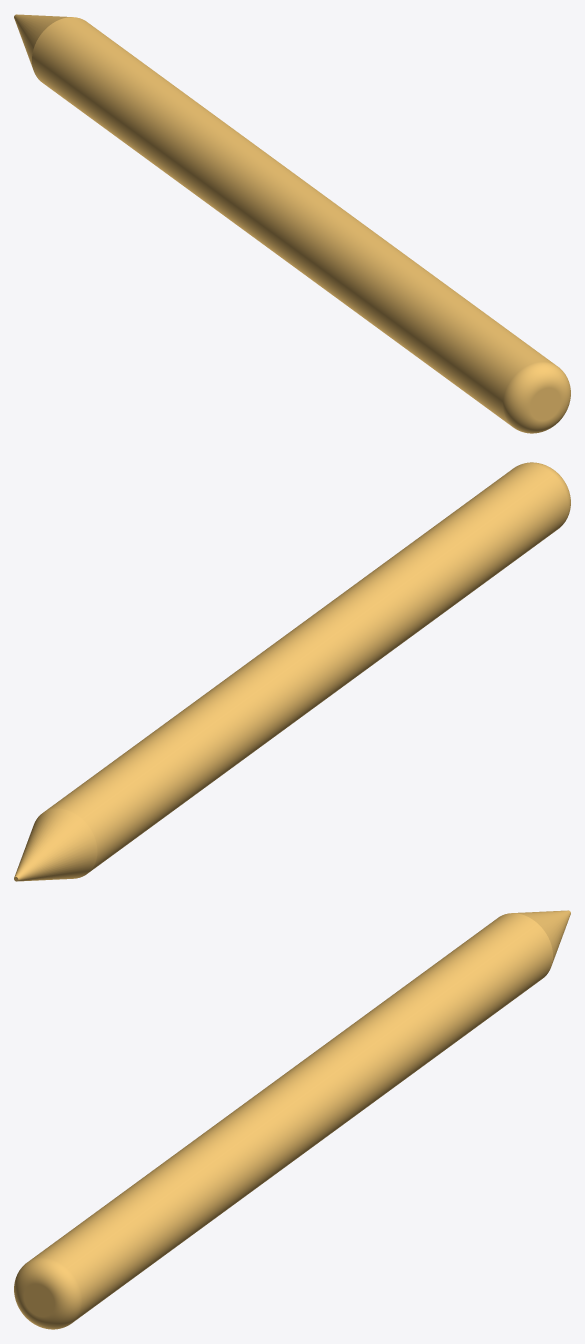
3 renders of one model, top to bottom at view 1: azimuth 30°, elevation 25°; view 2: azimuth 150°, elevation 25°; view 3: azimuth 330°, elevation 25°, orthographic.
Parts seen in each view (by area): view 1: mesh3054, mesh3053, mesh3055, mesh3052; view 2: mesh3054, mesh3055; view 3: mesh3054, mesh3053, mesh3055, mesh3052.
Boxes of the visible parts, x1=… form: mesh3054: x1=32, y1=17, x2=554, y2=425; mesh3053: x1=502, y1=362, x2=570, y2=433; mesh3055: x1=14, y1=14, x2=71, y2=68; mesh3052: x1=530, y1=388, x2=560, y2=420; mesh3054: x1=45, y1=464, x2=568, y2=872; mesh3055: x1=14, y1=808, x2=97, y2=881; mesh3054: x1=30, y1=913, x2=552, y2=1321; mesh3053: x1=14, y1=1258, x2=82, y2=1329; mesh3055: x1=513, y1=910, x2=570, y2=964; mesh3052: x1=24, y1=1284, x2=54, y2=1316.
Size of the model in its own units: 0.0075 by 0.00749 by 0.105.
